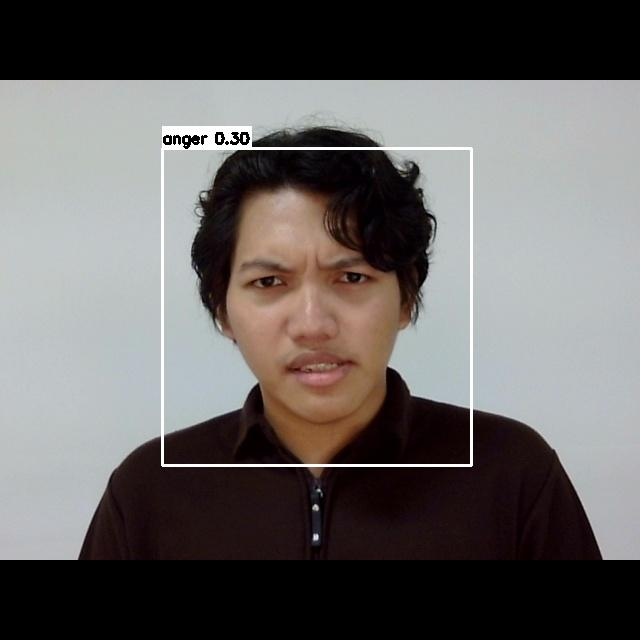Angry: (221, 226, 423, 406)
